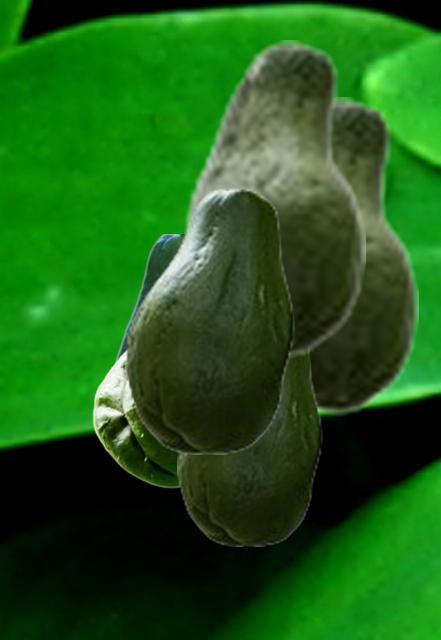sayote: (182, 40, 364, 358), (125, 187, 293, 453), (311, 97, 417, 415), (177, 352, 321, 545), (92, 349, 178, 487), (115, 234, 182, 360)
